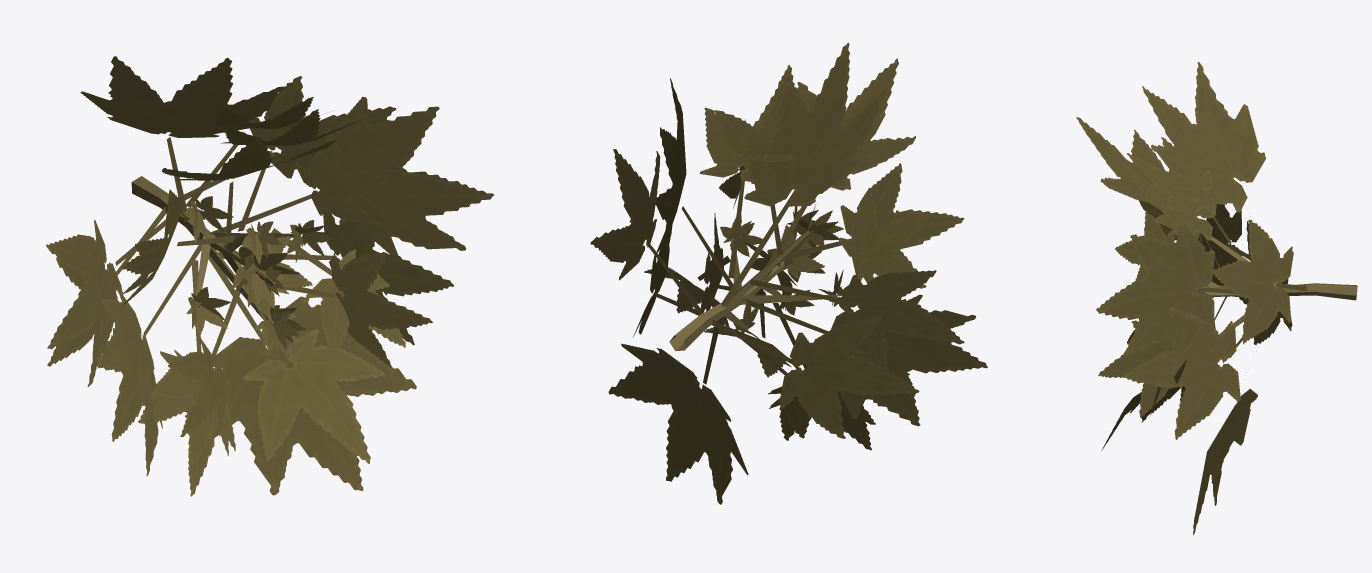
File: p_kush_vegetative_c2_cards.obj
3 views of the same model, side by side, from view 1: azimuth 30°, elevation 25°; view 2: azimuth 150°, elevation 25°; view 3: azimuth 270°, elevation 25° (orthographic). The views are drawn at different scales.
Bounding box in the file's own units: 1.11 × 1.41 × 0.806.
Materials: 1 (1 with a texture image).
